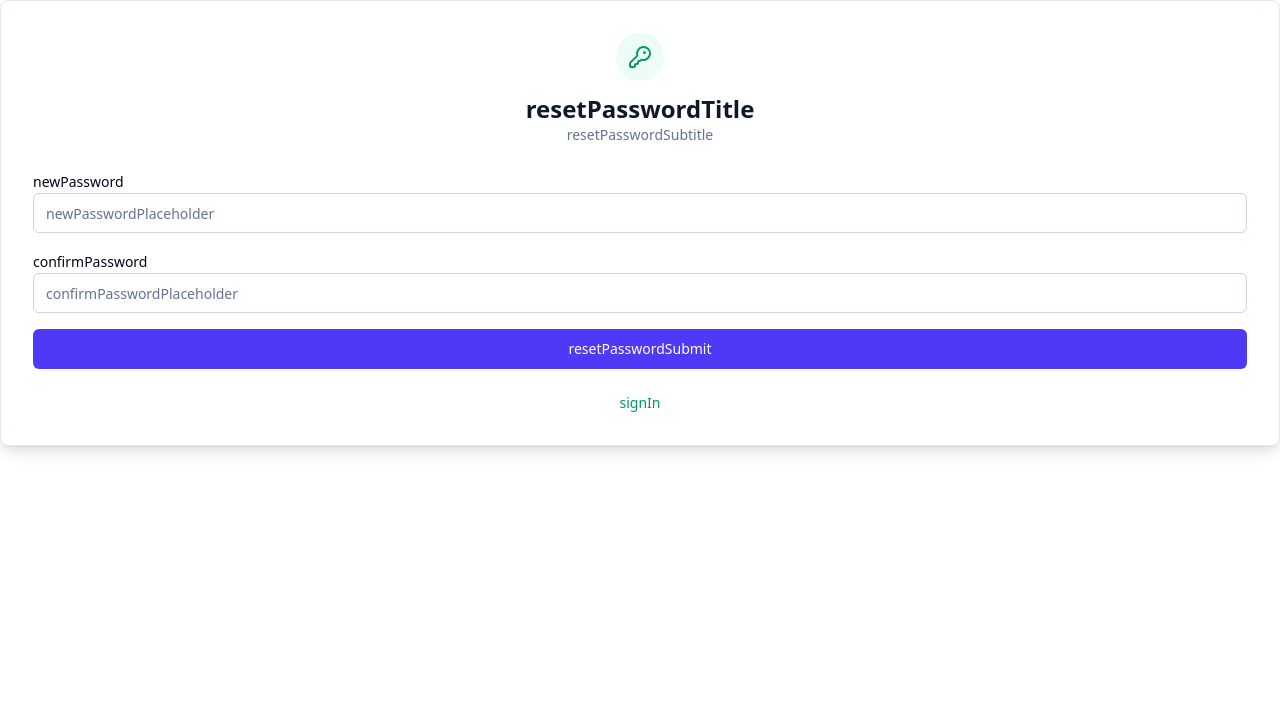
Scenario: ResetPassword › shows error when passwords do not match
Type "Password123!" into the password field labelled "newPassword".
click(640, 213); type("Password123!")  # box [33, 193, 1247, 233]
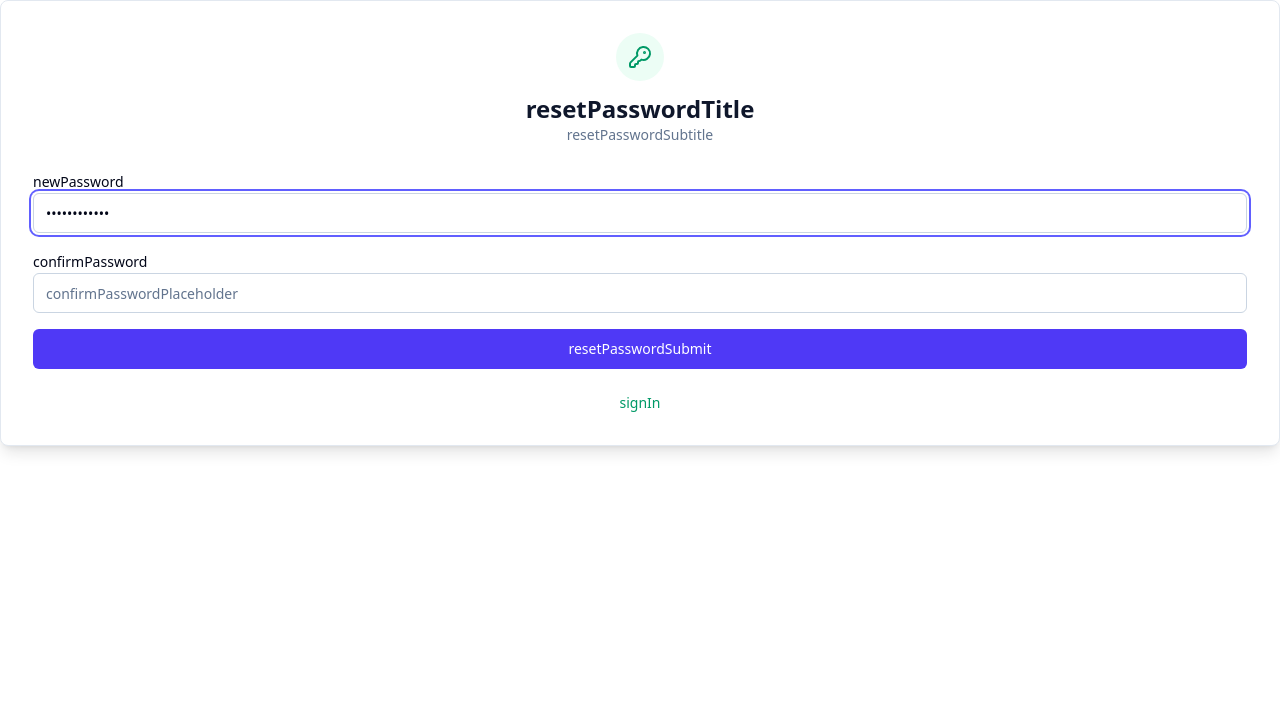
Type "DifferentPassword123!" into the password field labelled "confirmPassword".
click(640, 293); type("DifferentPassword123!")  # box [33, 273, 1247, 313]
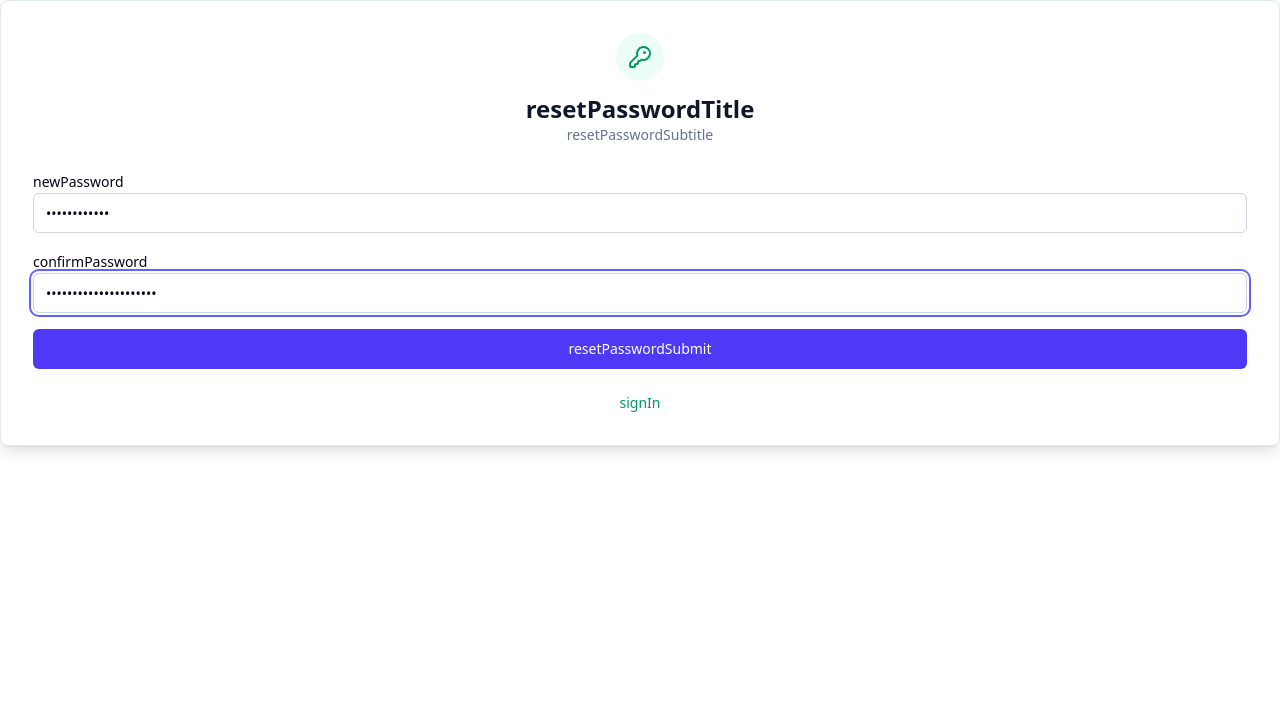
Click the button "resetPasswordSubmit".
click(640, 349)  # box [33, 329, 1247, 369]
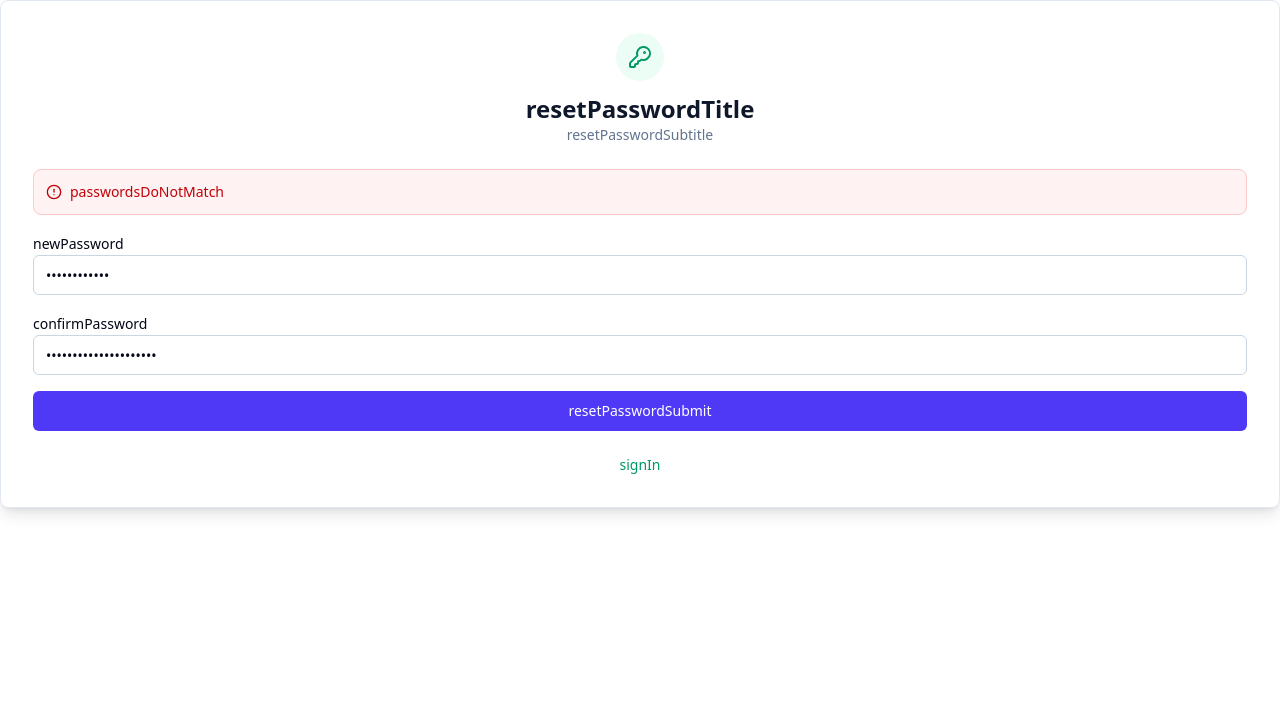
Expected: the text "passwordsDoNotMatch" is shown, [70, 182, 224, 202]
